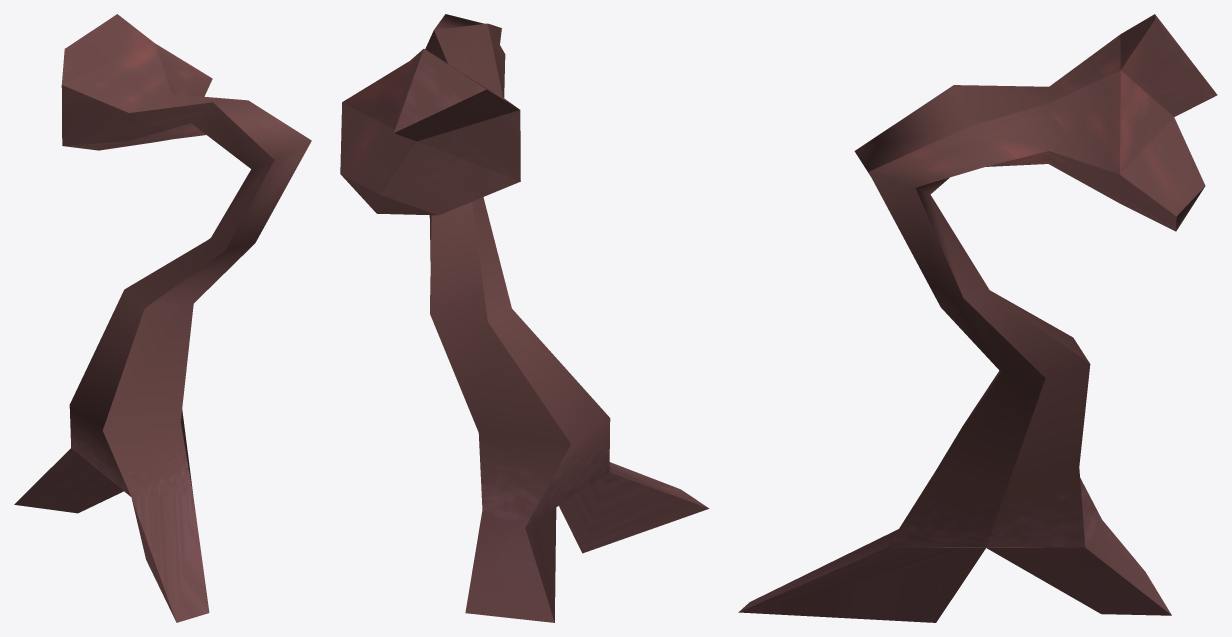
Rendered from Tree_Two.fbx.
3 views of the same model, side by side, from view 1: azimuth 30°, elevation 25°; view 2: azimuth 150°, elevation 25°; view 3: azimuth 270°, elevation 25° (orthographic). The views are drawn at different scales.
Visible parts, largest first — view 1: pCylinder2; view 2: pCylinder2; view 3: pCylinder2.
Boxes of the visible parts, x1=… form: pCylinder2: x1=14, y1=14, x2=311, y2=622; pCylinder2: x1=340, y1=14, x2=709, y2=622; pCylinder2: x1=738, y1=14, x2=1217, y2=622.
Bounding box in the file's own units: 1.76 × 4.11 × 2.78.
1 material, 1 textured.
